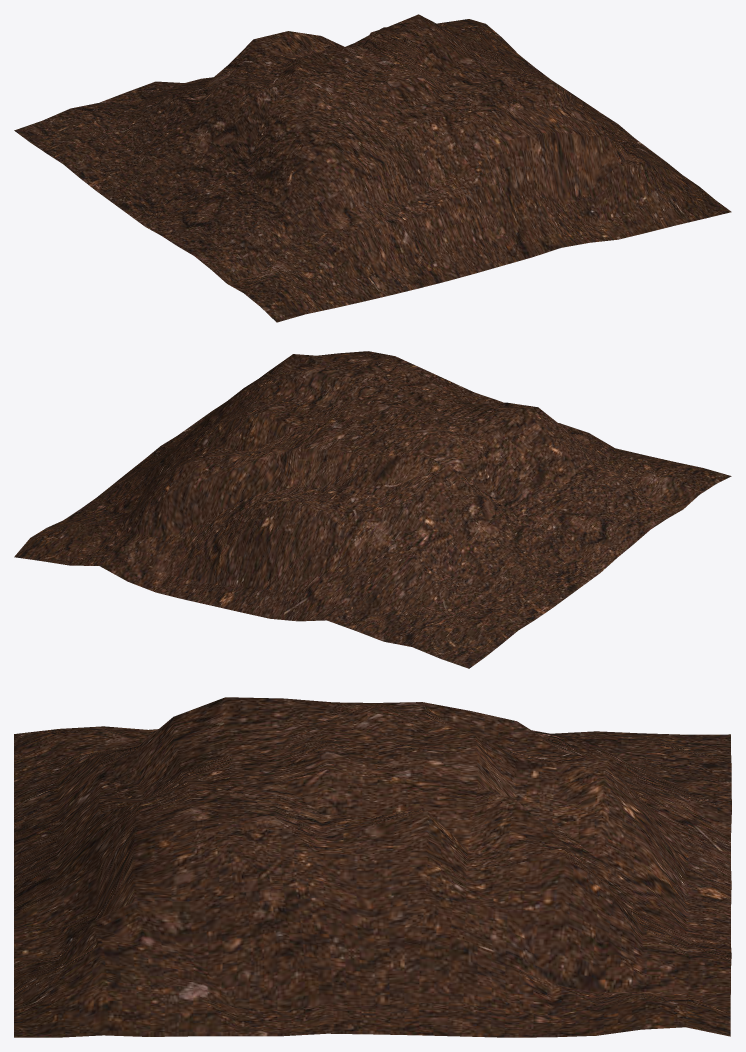
File: tanah.fbx
The picture shows the model from 3 angles, top to bottom: view 1: azimuth 30°, elevation 25°; view 2: azimuth 150°, elevation 25°; view 3: azimuth 270°, elevation 25°; orthographic projection. The views are drawn at different scales.
Visible parts, largest first — view 1: Plane; view 2: Plane; view 3: Plane.
Part boxes in pixels (x1,y1,x2,y2): Plane: (14, 14, 731, 322); Plane: (14, 351, 731, 668); Plane: (14, 697, 731, 1037).
Size of the model in its own units: 402 by 84.18 by 401.
Materials: 1 (1 with a texture image).
